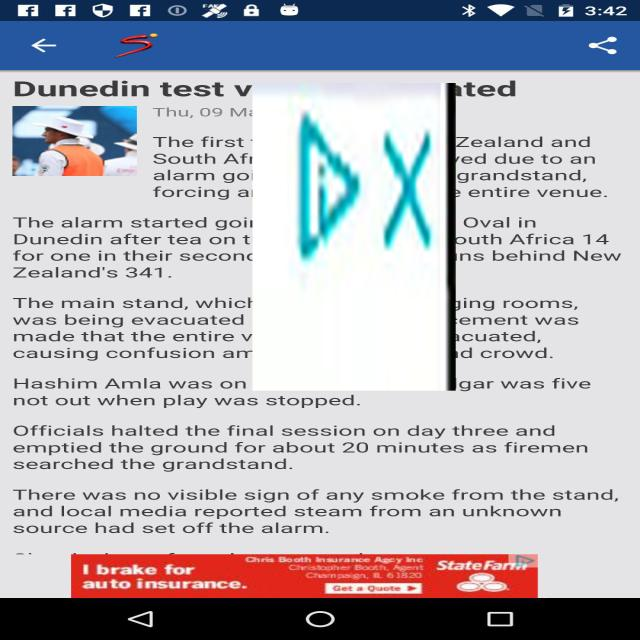sneaking: (252, 83, 456, 391)
